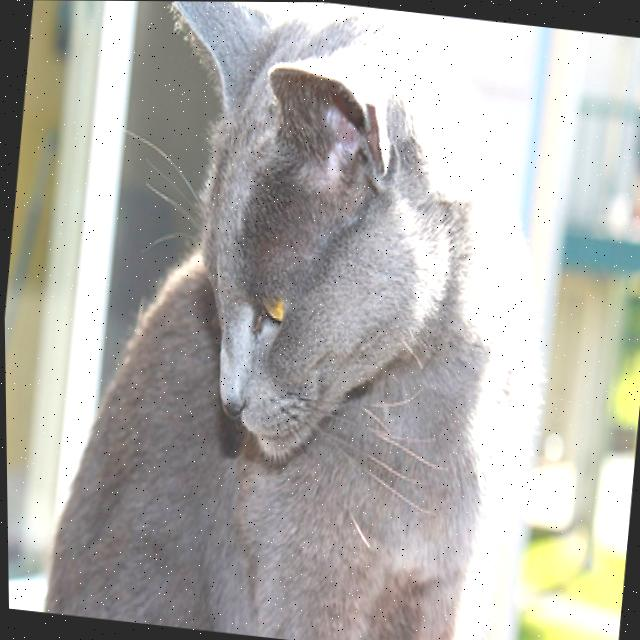Russian Blue: (28, 0, 581, 640)
